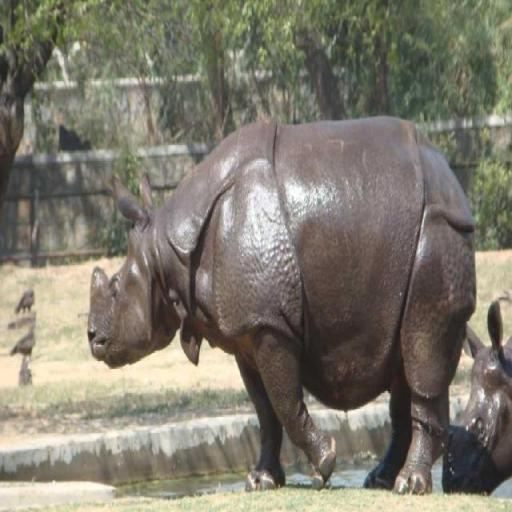Rhino: (86, 113, 478, 495), (442, 298, 512, 495)
